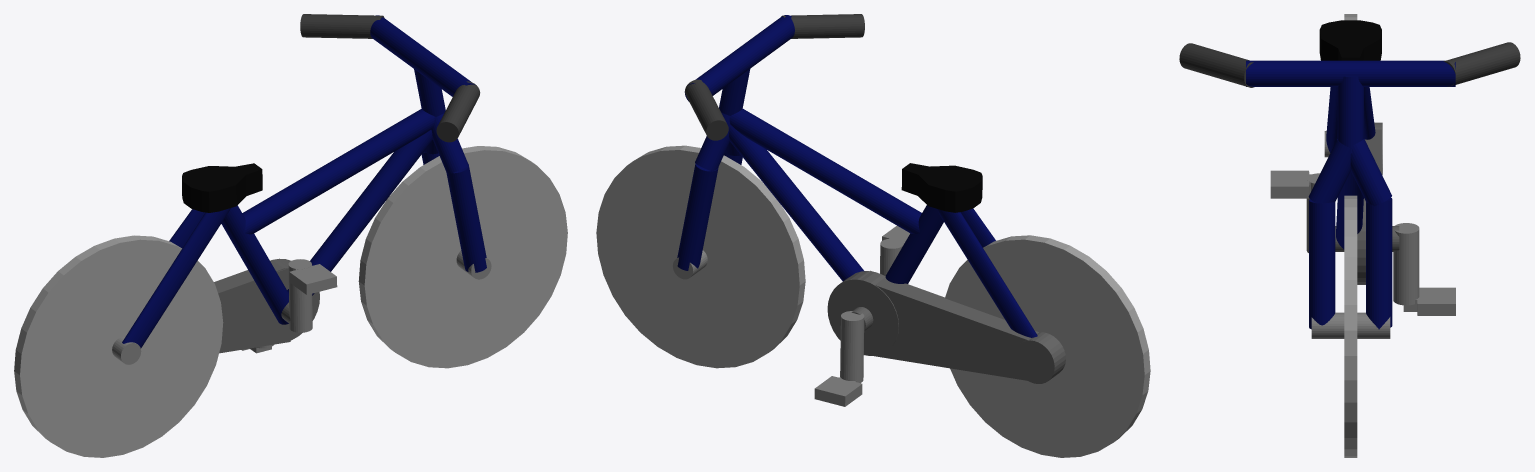
File: Pws fiets.fbx
The picture shows the model from 3 angles, left to right: view 1: azimuth 30°, elevation 25°; view 2: azimuth 150°, elevation 25°; view 3: azimuth 270°, elevation 25°; orthographic projection. The views are drawn at different scales.
Visible parts, largest first — view 1: Cylinder.001; view 2: Cylinder.001; view 3: Cylinder.001.
Part boxes in pixels (bbox=[...]): Cylinder.001: bbox=[14, 14, 567, 457]; Cylinder.001: bbox=[596, 14, 1150, 457]; Cylinder.001: bbox=[1179, 14, 1520, 457].
Bounding box in the file's own units: 539 × 310 × 260.
